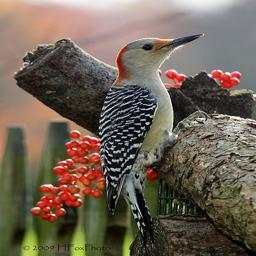Woodpecker: (99, 29, 212, 255)
